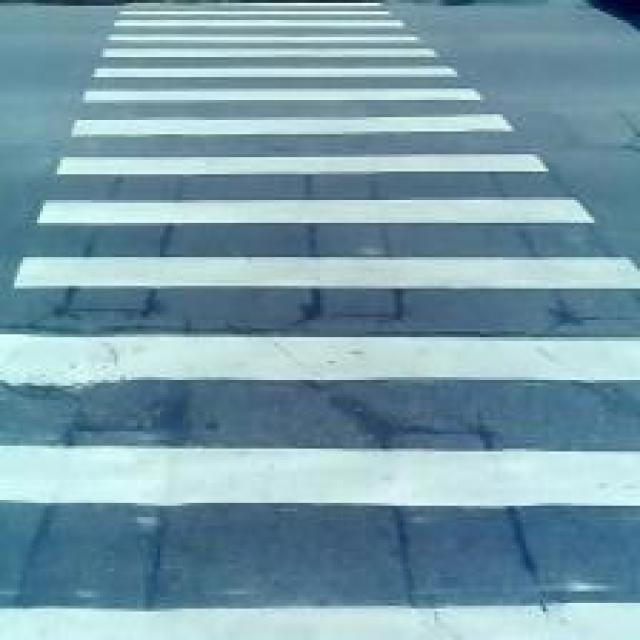walk-crossing: (49, 20, 639, 640)
